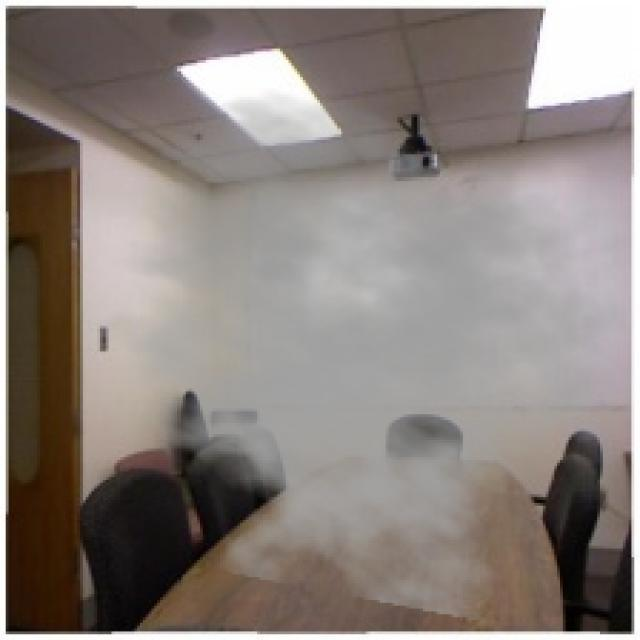Smoke: (71, 88, 634, 623)
